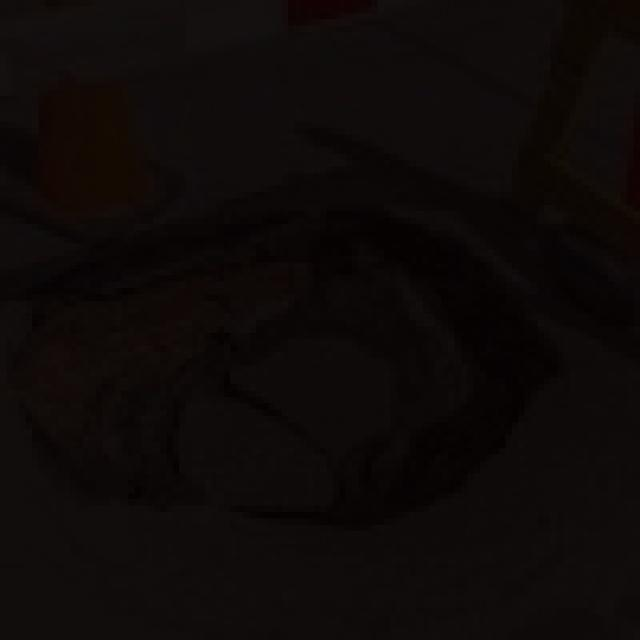Pothole: (0, 201, 566, 533)
